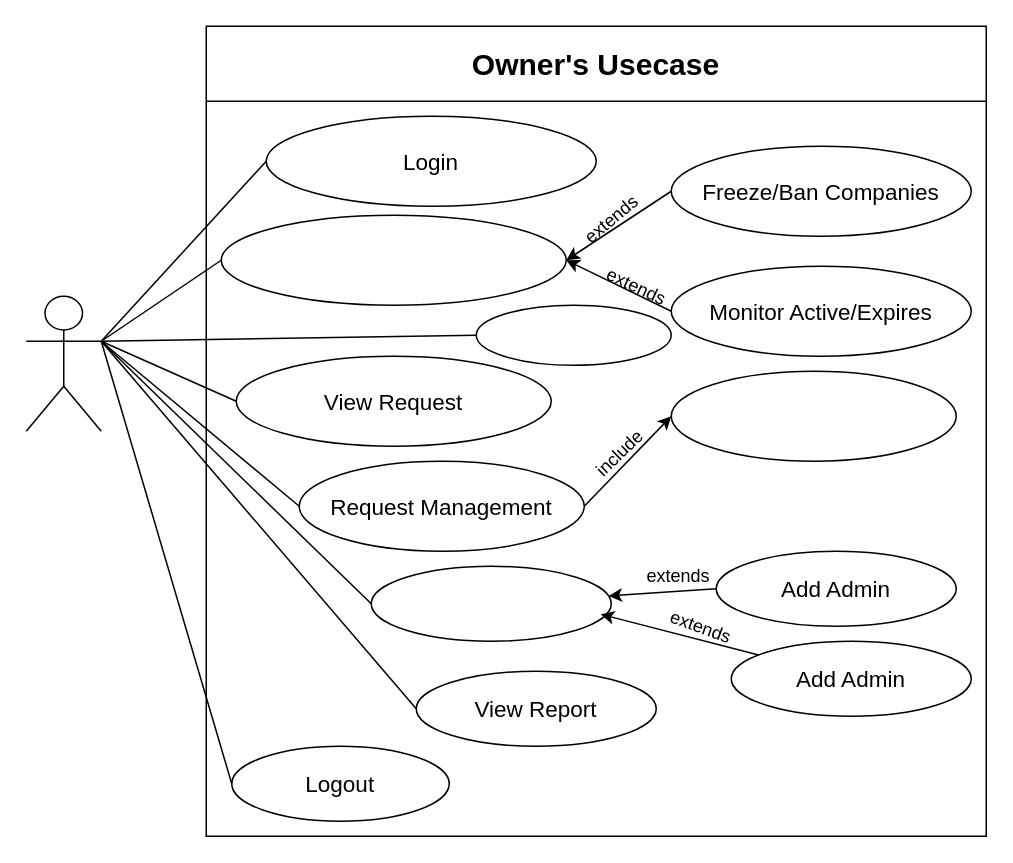
Some shapes in this 1013 by 863 pixel diagram are drawn without their labels. Each missing label, with the box of its shape:
Create Account for companies: (670, 370, 956, 461)
Edit profile: (475, 304, 671, 365)
Manage Admin Account: (370, 565, 611, 641)
Owner: (25, 295, 101, 431)
View Company: (220, 214, 566, 305)
